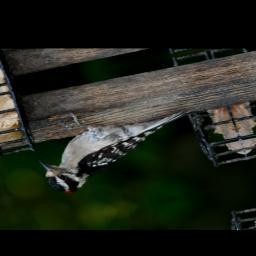Woodpecker: (25, 90, 211, 197)
